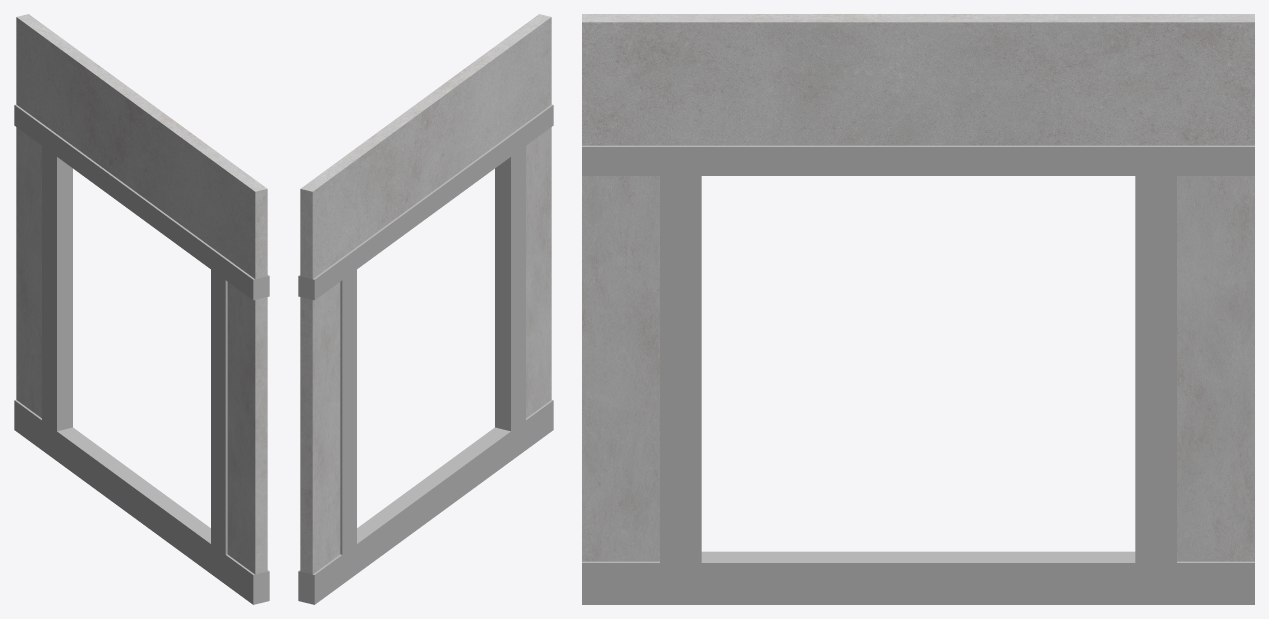
File: SM_White_Red_Wall01H.fbx
3 renders of one model, left to right at view 1: azimuth 30°, elevation 25°; view 2: azimuth 150°, elevation 25°; view 3: azimuth 270°, elevation 25°, orthographic. The views are drawn at different scales.
Visible parts, largest first — view 1: SM_White_Red_Wall01H; view 2: SM_White_Red_Wall01H; view 3: SM_White_Red_Wall01H.
Part boxes in pixels (box(x1,y1,x2,y2)): SM_White_Red_Wall01H: box(14, 14, 269, 604); SM_White_Red_Wall01H: box(298, 14, 553, 604); SM_White_Red_Wall01H: box(582, 14, 1254, 604).
Size of the model in its own units: 8.99 by 230 by 219.
